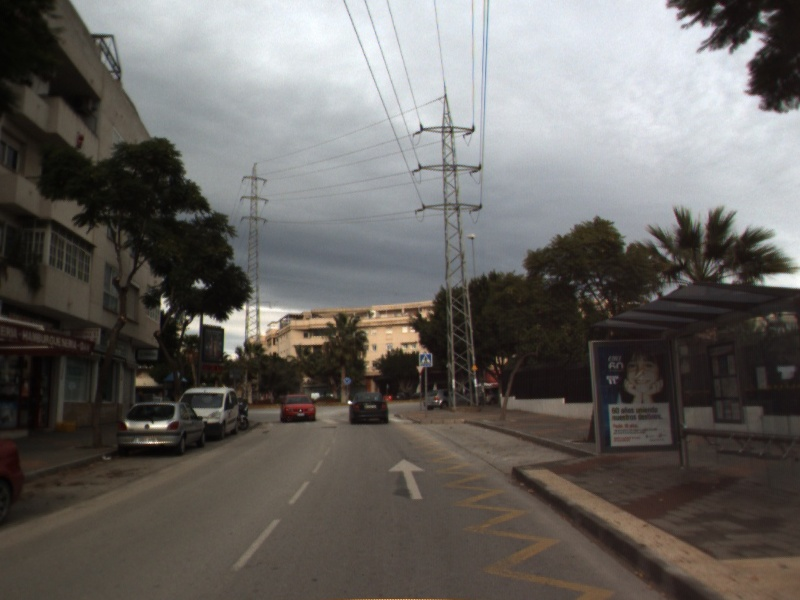STRAIGHT: (386, 456, 428, 501)
